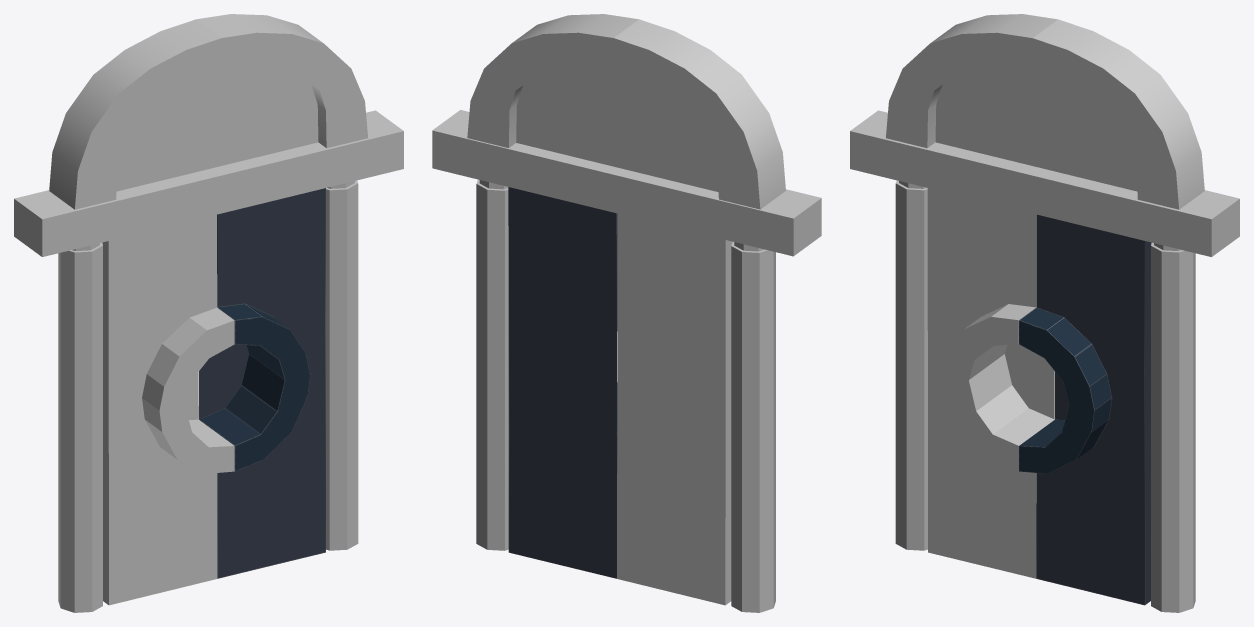
File: door_new.fbx
3 renders of one model, left to right at view 1: azimuth 30°, elevation 25°; view 2: azimuth 150°, elevation 25°; view 3: azimuth 330°, elevation 25°, orthographic.
Visible parts, largest first — view 1: crossbar, pCube1, pCube2; view 2: crossbar, pCube1, pCube2; view 3: crossbar, pCube2, pCube1.
Part boxes in pixels (bbox=[...]): crossbar: bbox=[14, 14, 403, 612]; pCube1: bbox=[102, 214, 234, 605]; pCube2: bbox=[199, 188, 325, 578]; crossbar: bbox=[432, 14, 821, 612]; pCube1: bbox=[617, 213, 732, 605]; pCube2: bbox=[508, 187, 617, 578]; crossbar: bbox=[850, 14, 1239, 612]; pCube2: bbox=[1019, 214, 1151, 605]; pCube1: bbox=[927, 188, 1054, 578].
Size of the model in its own units: 11.32 by 16.26 by 2.17.
